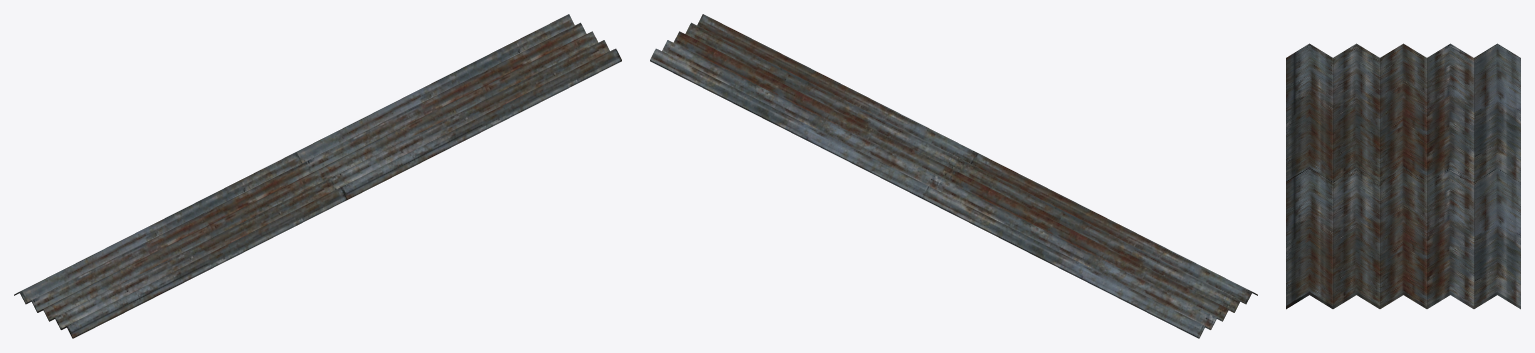
Rendered from roof_hr_3_side_2_angle_edge_1.obj.
3 renders of one model, left to right at view 1: azimuth 30°, elevation 25°; view 2: azimuth 150°, elevation 25°; view 3: azimuth 270°, elevation 25°, orthographic. The views are drawn at different scales.
Visible parts, largest first — view 1: roof_hr_3_side_2_angle_edge_1; view 2: roof_hr_3_side_2_angle_edge_1; view 3: roof_hr_3_side_2_angle_edge_1.
Boxes of the visible parts, <box> form: roof_hr_3_side_2_angle_edge_1: <box>14,14,621,338</box>; roof_hr_3_side_2_angle_edge_1: <box>650,14,1257,338</box>; roof_hr_3_side_2_angle_edge_1: <box>1286,43,1520,309</box>.
Bounding box in the file's own units: 4 × 1.06 × 0.7407.
